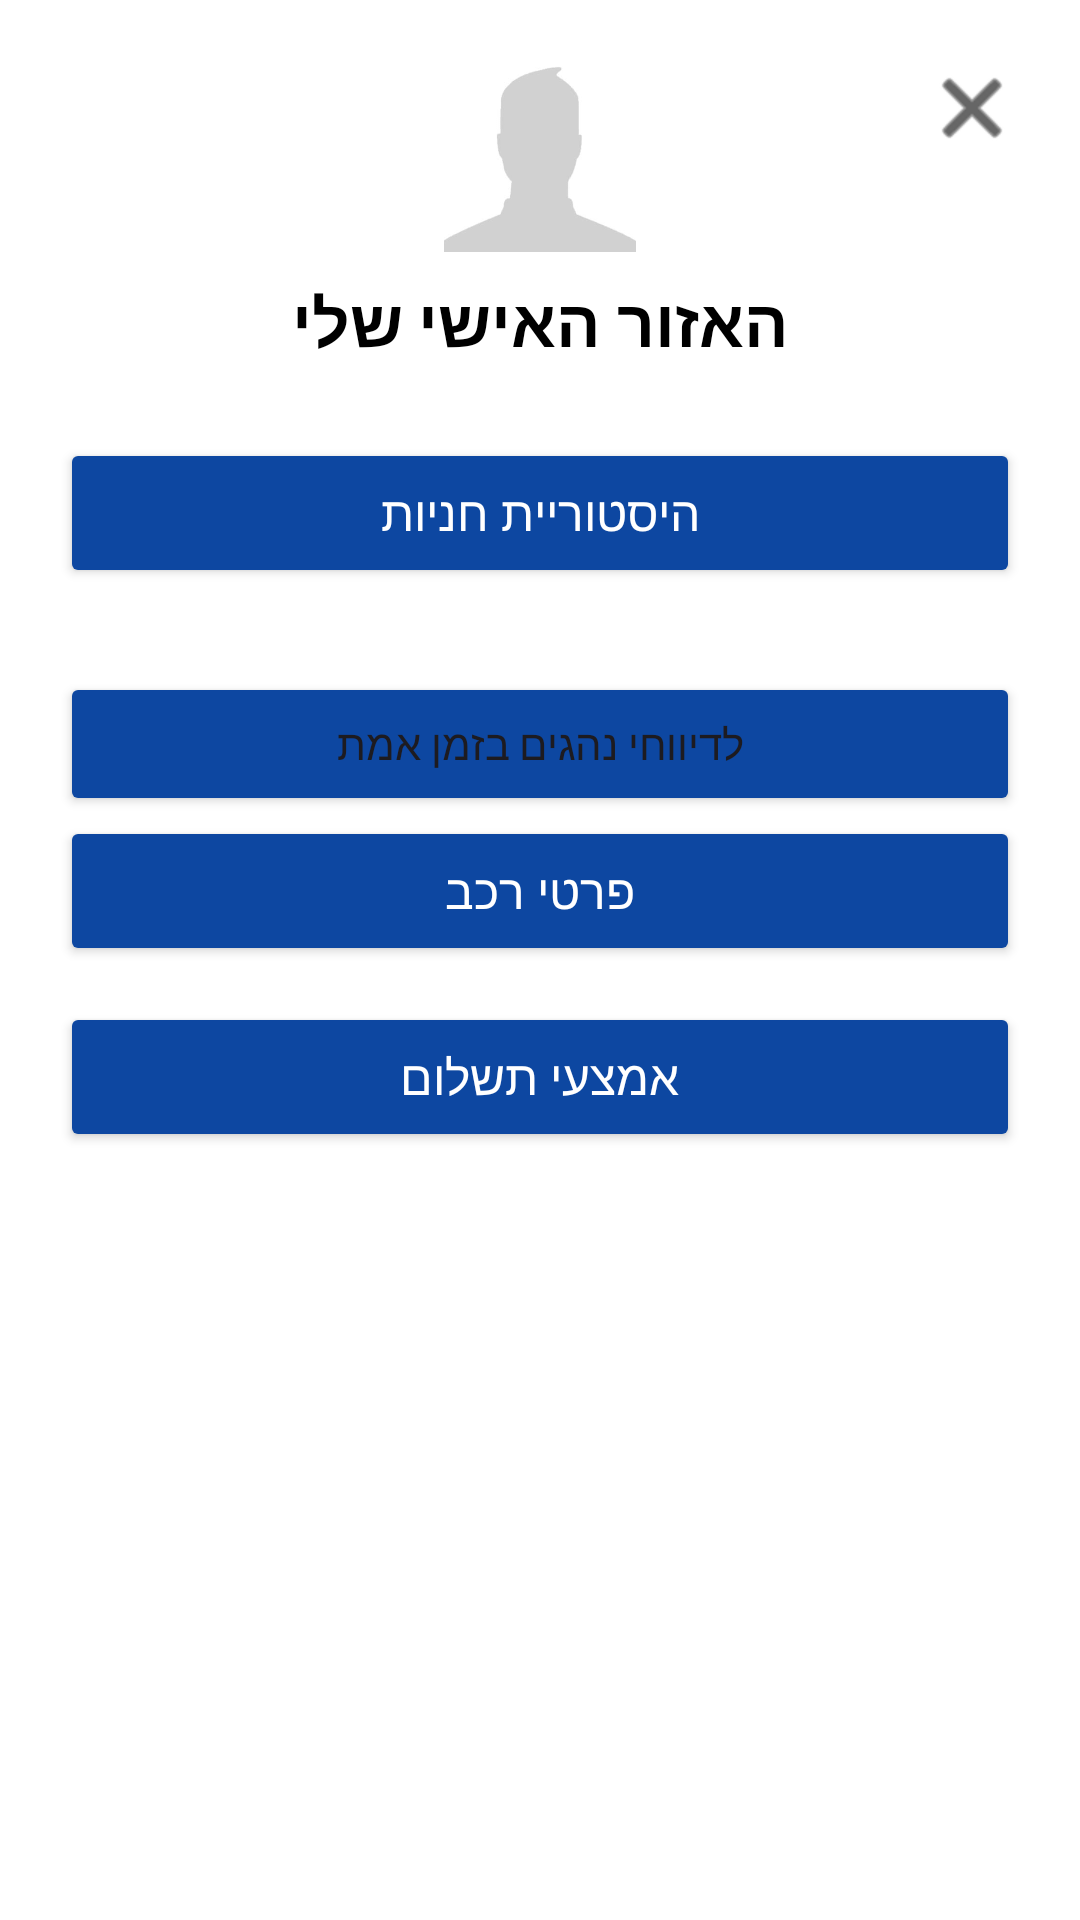

Named icons in this screenshot (1080 x 1920) and their centers, [x,y]:
close clear cancel: [972,108]
profile: [540,159]
